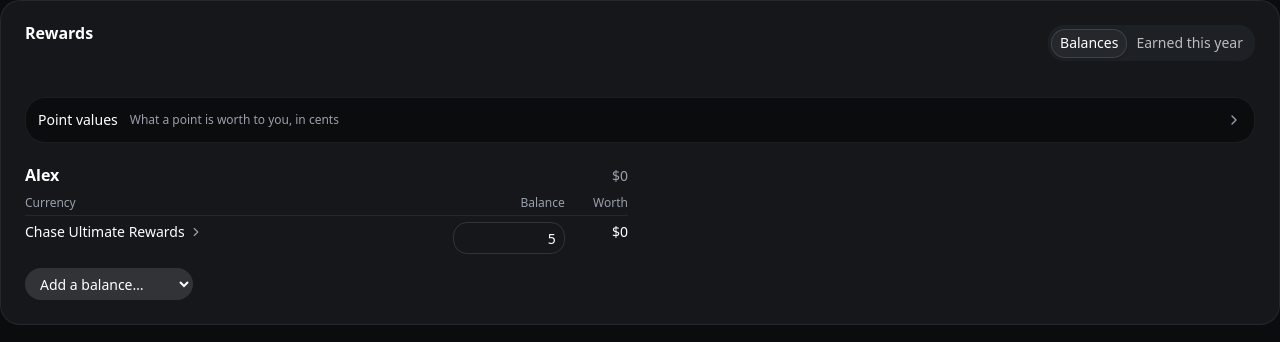
Test: Rewards › shows no table when nothing was earned this year, and no placeholder either
What coordinates should you click on to do the following:
click the radio button labelled "Earned this year"
I would click on:
 (1190, 43)
Its box is [1127,28,1252,58].
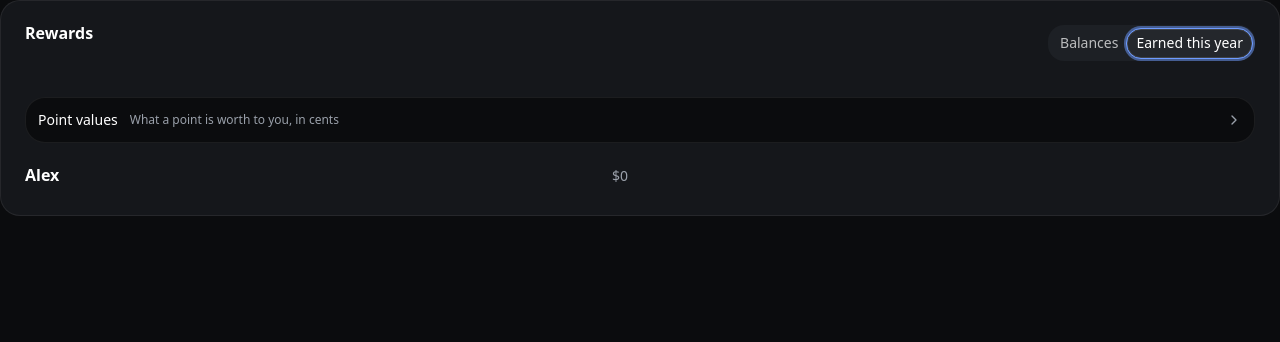
Now the table is gone
